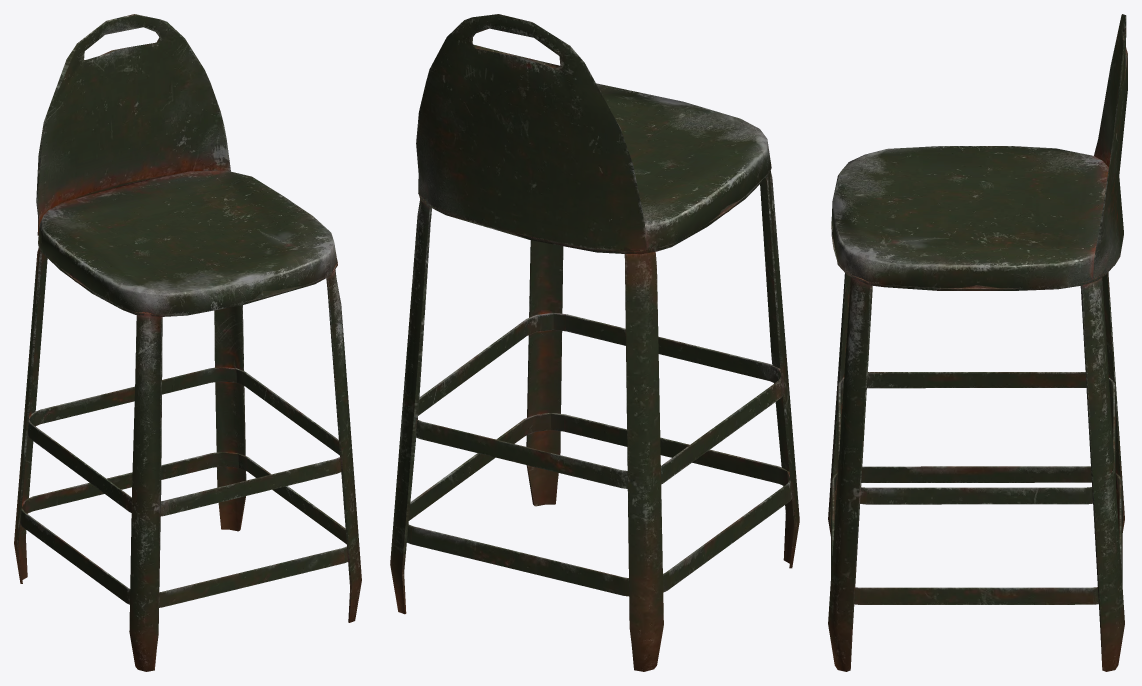
Rendered from metal_stool_03.glb.
3 renders of one model, left to right at view 1: azimuth 30°, elevation 25°; view 2: azimuth 150°, elevation 25°; view 3: azimuth 270°, elevation 25°, orthographic. The views are drawn at different scales.
Visible parts, largest first — view 1: metal_stool_03; view 2: metal_stool_03; view 3: metal_stool_03.
Boxes of the visible parts, <box> form: metal_stool_03: <box>14,14,361,671</box>; metal_stool_03: <box>390,14,799,671</box>; metal_stool_03: <box>828,14,1127,671</box>.
Size of the model in its own units: 0.4606 by 1.02 by 0.4699.
1 material, 1 textured.
